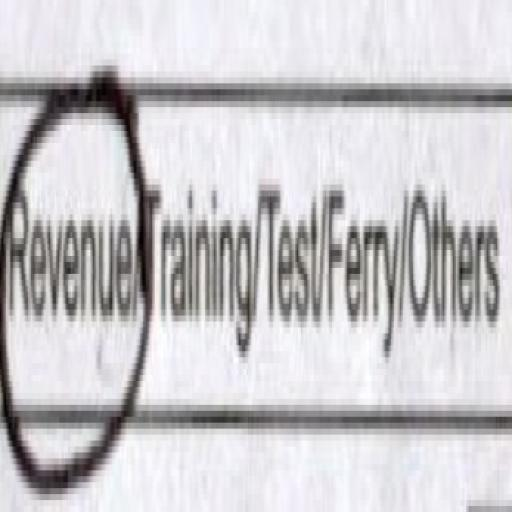check: (1, 20, 140, 512)
